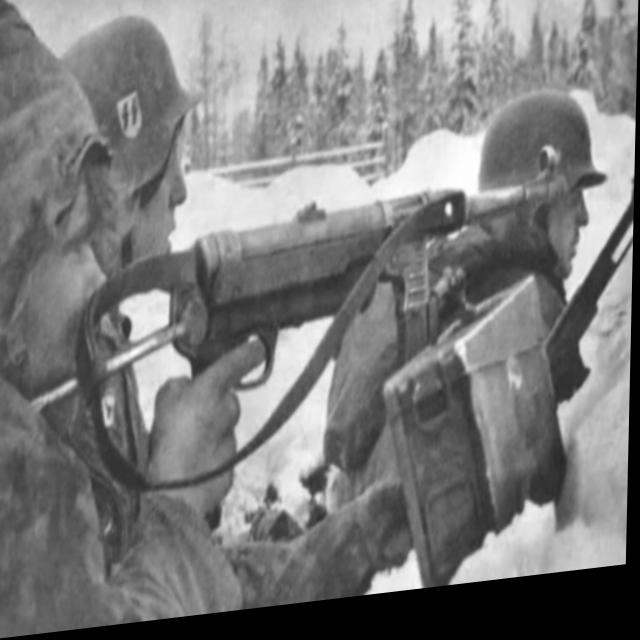other: (422, 75, 637, 425), (48, 0, 216, 442), (0, 44, 113, 583)
